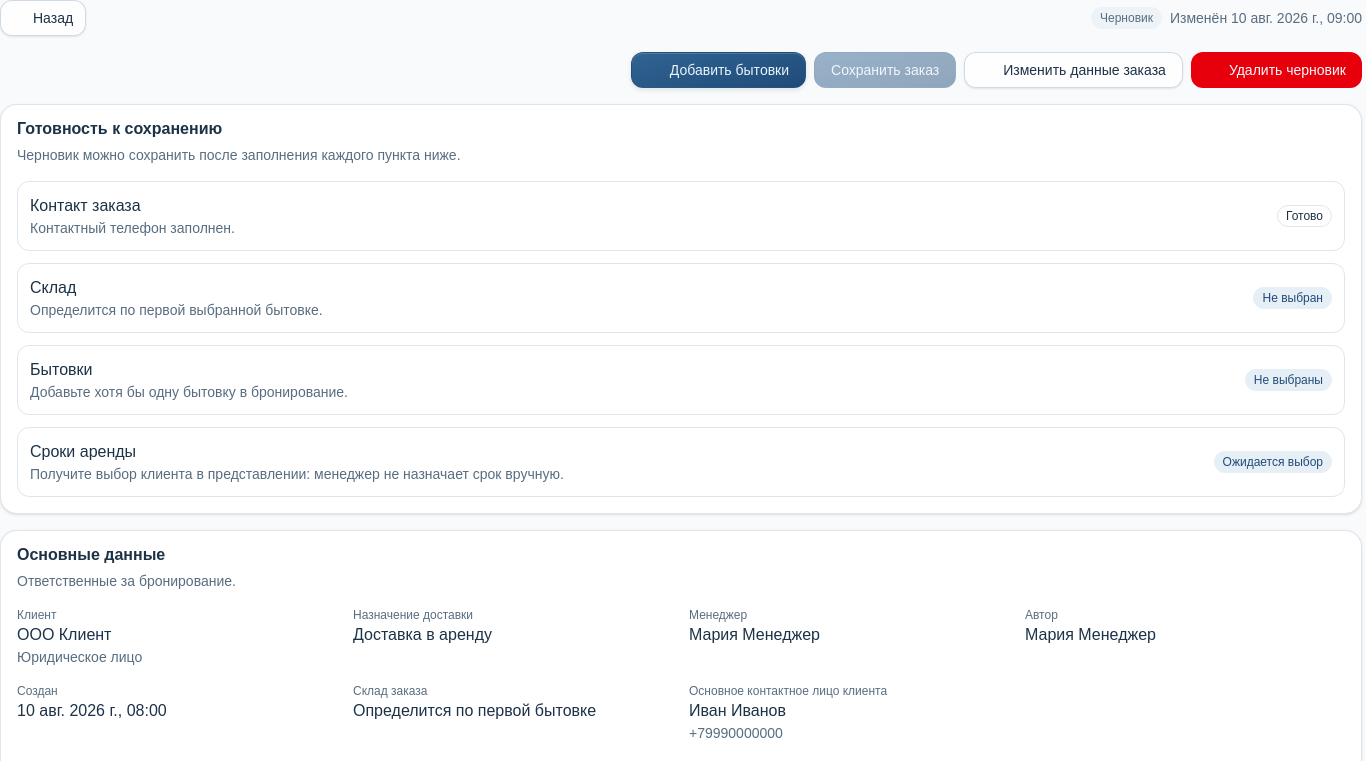
Test: OrderDetailPage cabin entry › removes the old inline grid and offers exactly two order-linked paths
Click the button "Добавить бытовки" at (718, 70), box [631,52,806,88]
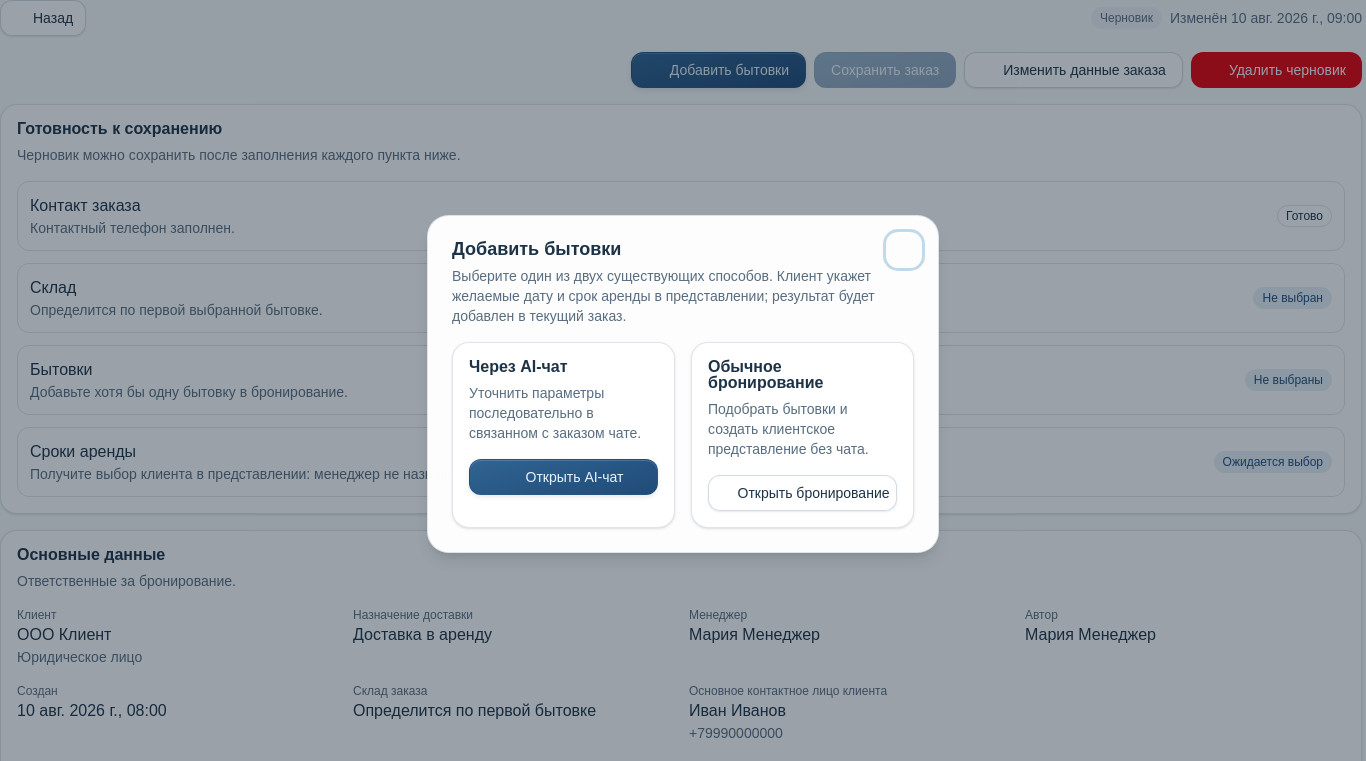
Check: the number of links "Открыть AI-чат" is 2, box [469,459,658,495]; [708,475,897,511]
